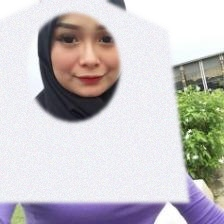Mukena: (0, 0, 185, 202)
